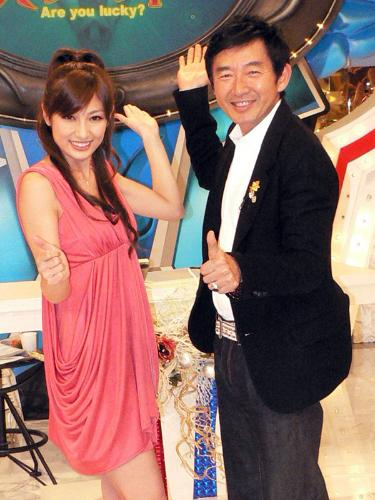face: (213, 37, 291, 125), (41, 91, 107, 161)
hand: (197, 230, 242, 296), (32, 232, 70, 287), (175, 43, 211, 93), (113, 103, 159, 138)
